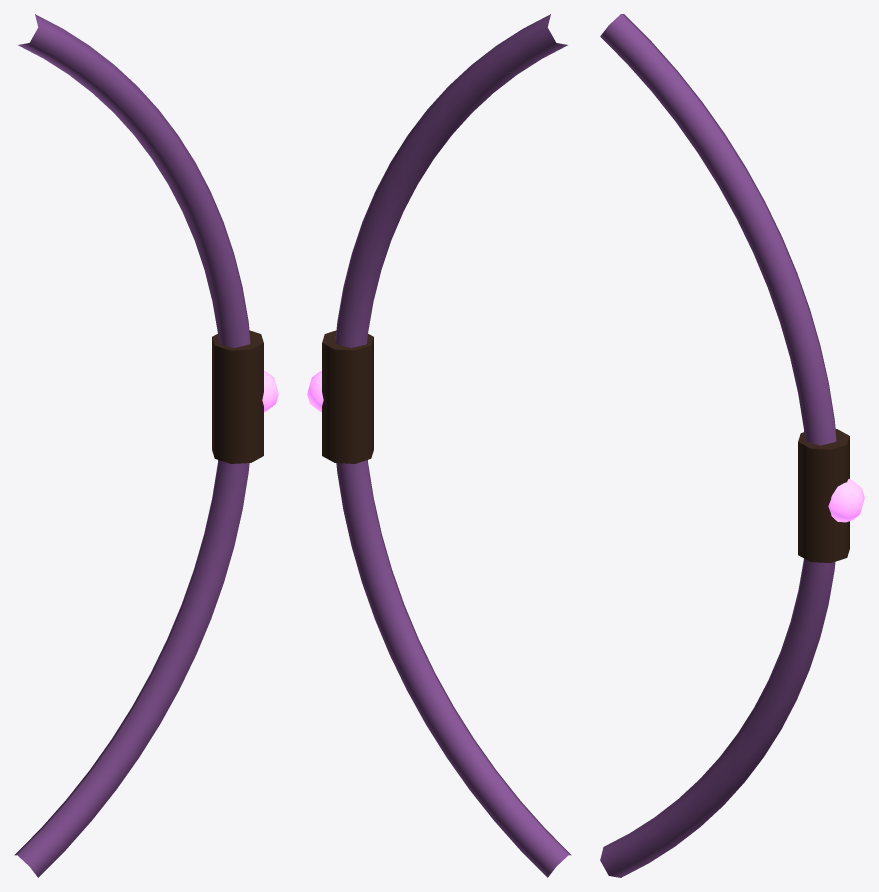
The model's file is bow_f2_fcd2b414.glb.
3 renders of one model, left to right at view 1: azimuth 30°, elevation 25°; view 2: azimuth 150°, elevation 25°; view 3: azimuth 330°, elevation 25°, orthographic.
Visible parts, largest first — view 1: m0_ow80_, m1_ow80_; view 2: m0_ow80_, m1_ow80_; view 3: m0_ow80_, m1_ow80_, m2_gm160_.
Boxes of the visible parts, x1,y1,x2,y2 form: m0_ow80_: (14, 14, 250, 877); m1_ow80_: (212, 330, 263, 463); m0_ow80_: (335, 14, 571, 877); m1_ow80_: (322, 330, 373, 463); m0_ow80_: (600, 14, 836, 877); m1_ow80_: (798, 429, 849, 563); m2_gm160_: (828, 479, 864, 522).
Bounding box in the file's own units: 0.6699 × 2.13 × 0.12.
